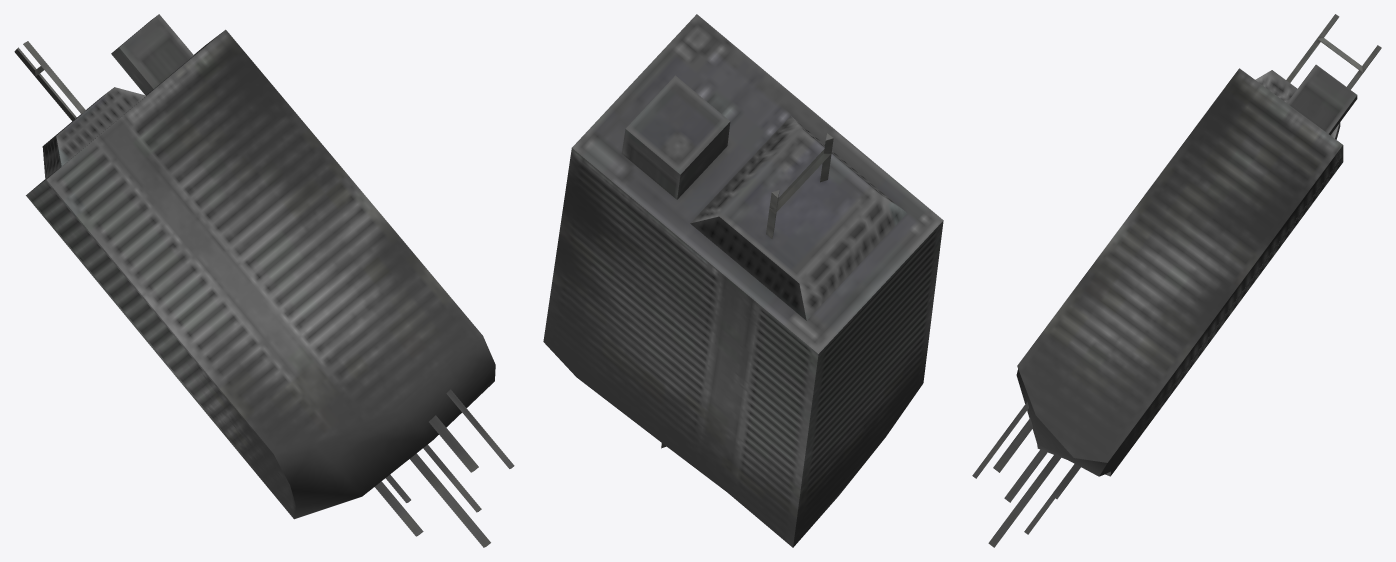
The model's file is skyBuildingAAC_pos_grp (33).fbx.
The picture shows the model from 3 angles, left to right: view 1: azimuth 30°, elevation 25°; view 2: azimuth 150°, elevation 25°; view 3: azimuth 270°, elevation 25°; orthographic projection. The views are drawn at different scales.
Parts seen in each view (by area): view 1: skyBuildingAAC_geo; view 2: skyBuildingAAC_geo; view 3: skyBuildingAAC_geo.
Part boxes in pixels (x1,y1,x2,y2): skyBuildingAAC_geo: (14,14,514,547); skyBuildingAAC_geo: (543,14,943,547); skyBuildingAAC_geo: (972,14,1381,547).
Bounding box in the file's own units: 7.97 × 9.51 × 8.39.
